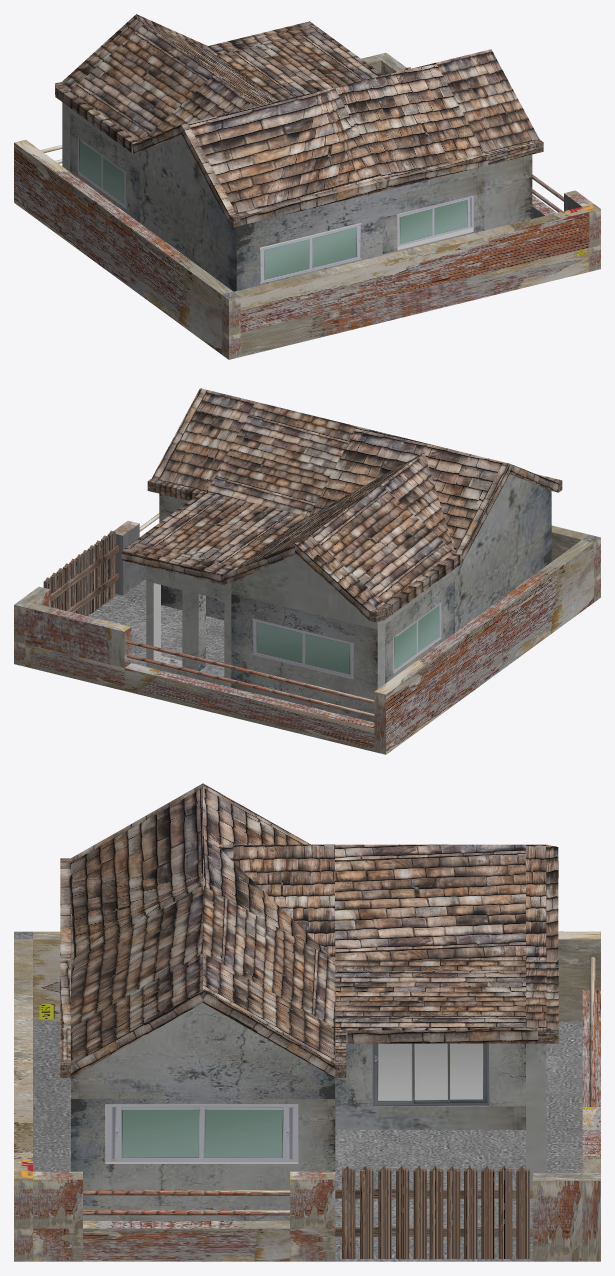
The model's file is บ้านอันที่2.fbx.
3 renders of one model, top to bottom at view 1: azimuth 30°, elevation 25°; view 2: azimuth 150°, elevation 25°; view 3: azimuth 270°, elevation 25°, orthographic. The views are drawn at different scales.
Parts seen in each view (by area): view 1: Plane, Plane.001; view 2: Plane, Plane.001, Cube.001, Cylinder.002; view 3: Plane, Plane.001, Cube.001, Cylinder.002.
Part boxes in pixels (x1,y1,x2,y2): Plane: (55,14,543,291); Plane.001: (14,52,600,359); Plane: (121,388,562,722); Plane.001: (14,520,600,754); Cube.001: (43,530,118,615); Cylinder.002: (126,513,374,717); Plane: (60,783,558,1220); Plane.001: (14,931,600,1261); Cube.001: (335,1165,532,1258); Cylinder.002: (83,957,595,1215).
Size of the model in its own units: 1495 by 688 by 1495.
Materials: 24 (23 with a texture image).
